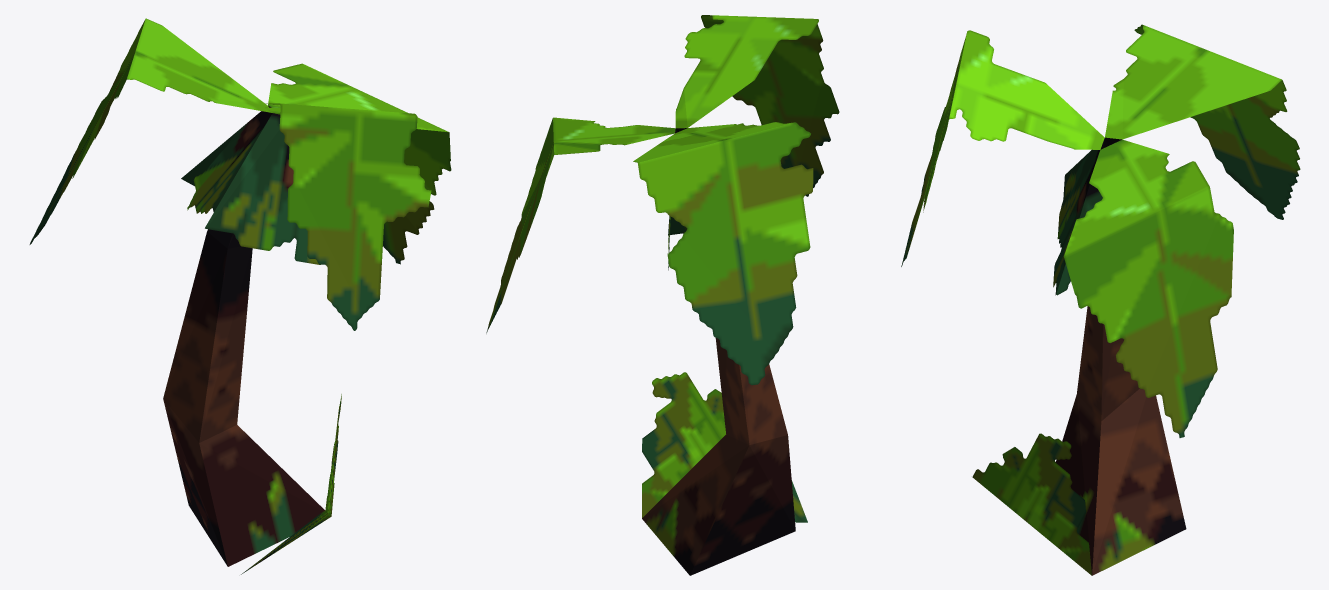
The model's file is palm.obj.
3 views of the same model, side by side, from view 1: azimuth 30°, elevation 25°; view 2: azimuth 150°, elevation 25°; view 3: azimuth 270°, elevation 25° (orthographic).
Visible parts, largest first — view 1: palm; view 2: palm; view 3: palm.
Part boxes in pixels (x1=…): palm: x1=29, y1=18, x2=451, y2=574; palm: x1=486, y1=15, x2=839, y2=575; palm: x1=901, y1=24, x2=1300, y2=575.
Bounding box in the file's own units: 1.75 × 2.15 × 1.69.
1 material, 1 textured.
